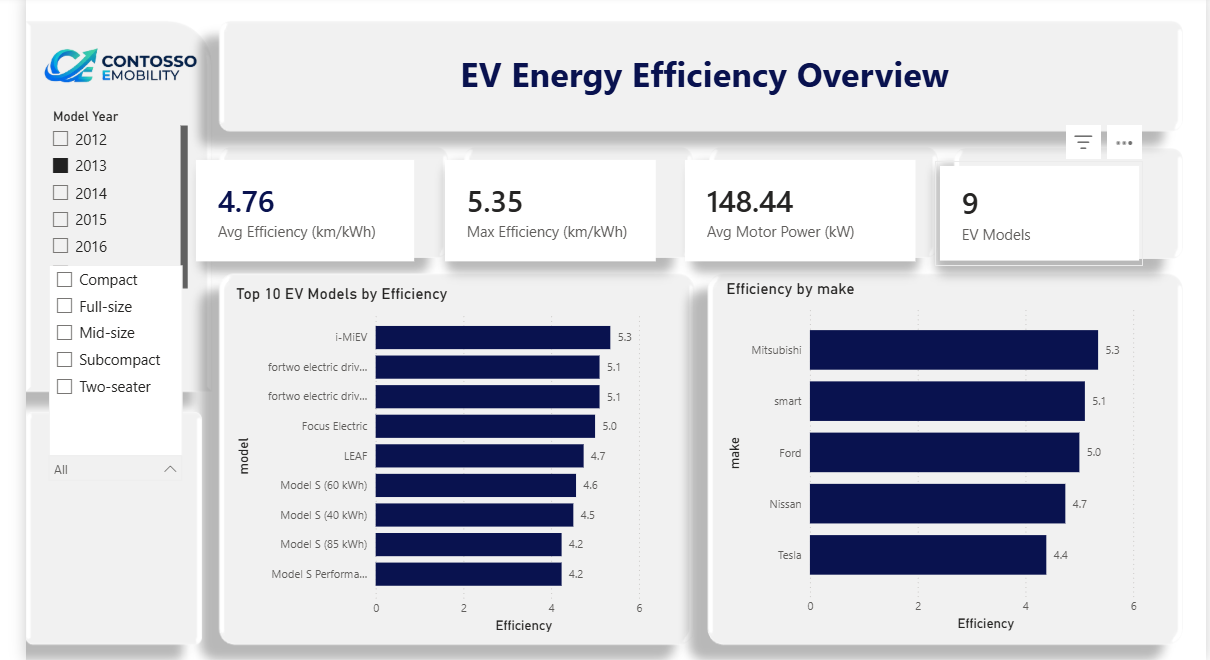

The dashboard page shown, as its layout file describes it:
{"tool":"powerbi","page":{"name":"Page 1","canvas":[1280,720],"ordinal":0},"visuals":[{"type":"clusteredBarChart","title":"Top 10 EV Models by Efficiency","fields":{"Category":["ev_metrics.model"],"Y":["Calculations.AVG Efficiency"]},"box":[222.8,312.3,486.3,382.2],"z":0},{"type":"slicer","fields":{"Values":["ev_metrics.model_year"]},"box":[16.3,117.1,164.3,305.8],"z":1},{"type":"clusteredBarChart","fields":{"Category":["ev_metrics.make"],"Y":["Calculations.AVG Efficiency"]},"box":[754,308,485.7,385.5],"z":2},{"type":"cardVisual","fields":{"Data":["Calculations.AVG Efficiency"]},"box":[178.9,172.4,247.2,120.4],"z":3},{"type":"cardVisual","fields":{"Data":["Calculations.Max Efficiency"]},"box":[448.9,172.4,239.1,120.4],"z":4},{"type":"slicer","fields":{"Values":["ev_metrics.vehicle_class"]},"box":[15.1,470.6,164.4,223],"z":5},{"type":"cardVisual","fields":{"Data":["Calculations.AVG Motor Power"]},"box":[709.2,172.4,260.2,120.4],"z":6},{"type":"textbox","box":[203.3,53.7,1065.4,96],"z":7},{"type":"cardVisual","fields":{"Data":["Calculations.No. of EV models"]},"box":[985.7,178.9,226.1,113.9],"z":8}]}

Visuals, with their boxes on the page's 1280x720 design canvas (x1, y1, x2, y2). These are canvas units, not pixel positions in the 1210x660 screenshot, which may show the page scaled, cropped or inside an application window:
"Top 10 EV Models by Efficiency" clusteredBarChart: region(223, 312, 709, 694)
slicer - ev_metrics.model_year: region(16, 117, 181, 423)
clusteredBarChart - ev_metrics.make x Calculations.AVG Efficiency: region(754, 308, 1240, 694)
cardVisual - Calculations.AVG Efficiency: region(179, 172, 426, 293)
cardVisual - Calculations.Max Efficiency: region(449, 172, 688, 293)
slicer - ev_metrics.vehicle_class: region(15, 471, 180, 694)
cardVisual - Calculations.AVG Motor Power: region(709, 172, 969, 293)
textbox: region(203, 54, 1269, 150)
cardVisual - Calculations.No. of EV models: region(986, 179, 1212, 293)
